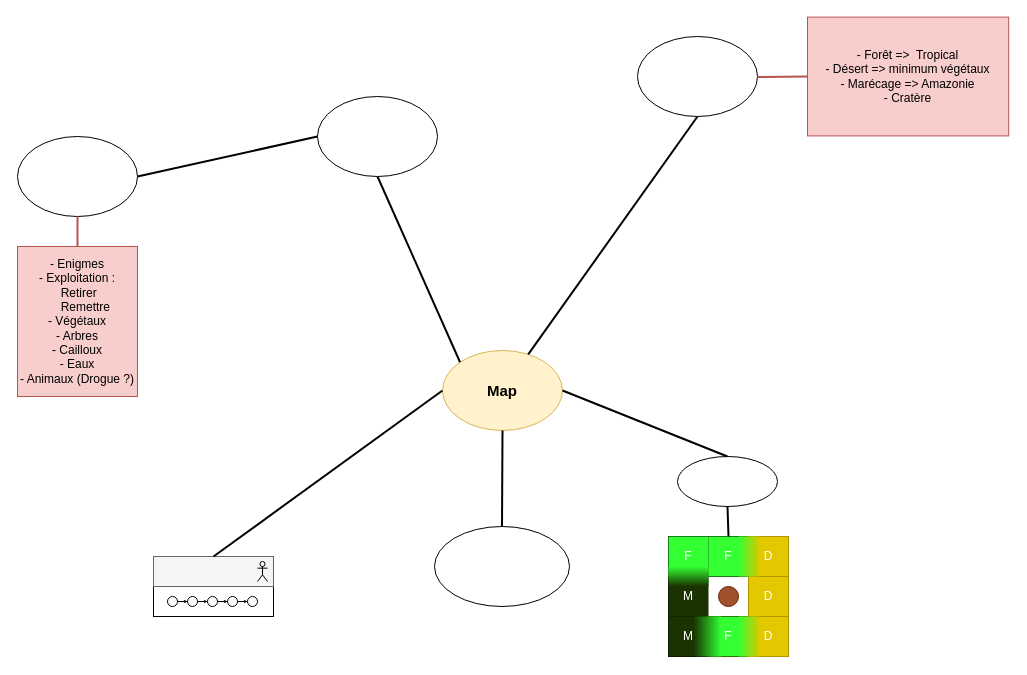
This 1027x675 diagram has some shape labels left out. Here are the shapes that lost their labels. From the top down, the centre of each, then its label:
At point (697, 76): "Instance biomes".
At point (377, 136): "Vue en 2d Vision du dessus".
At point (77, 176): "Interactions".
At point (727, 481): "Transition map".
At point (213, 571): "Déplacement".
At point (502, 566): "Taille ? 501 * 501 mini Taille des cases ?".
